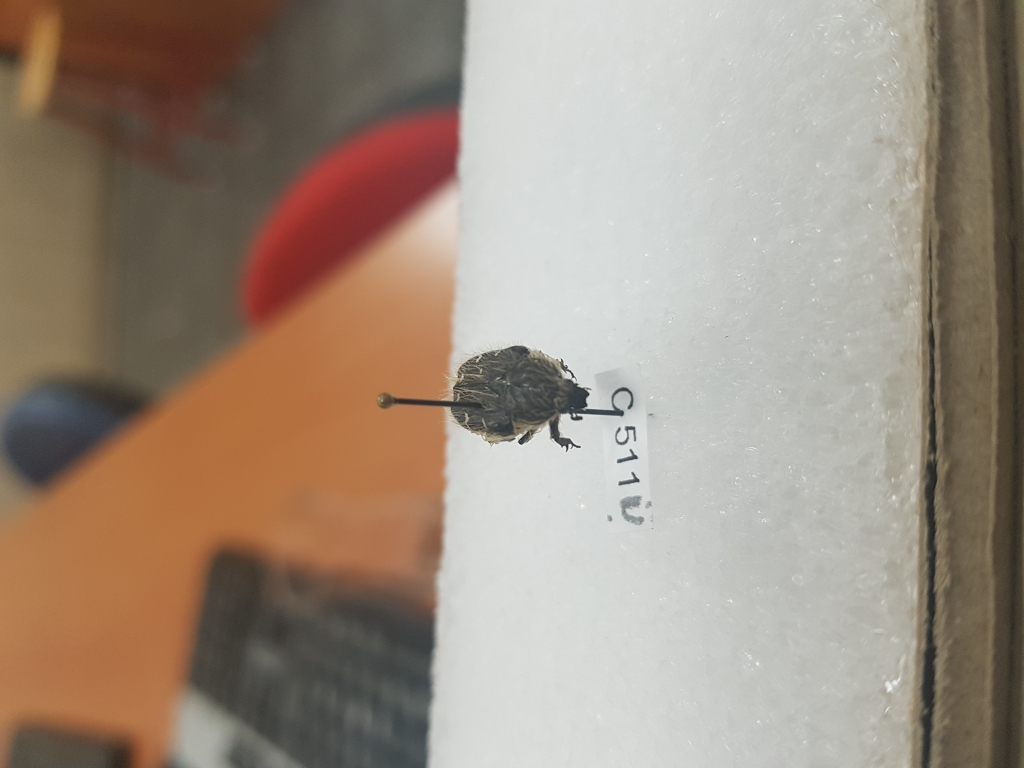Tropinota_senicula: (451, 336, 601, 450)
